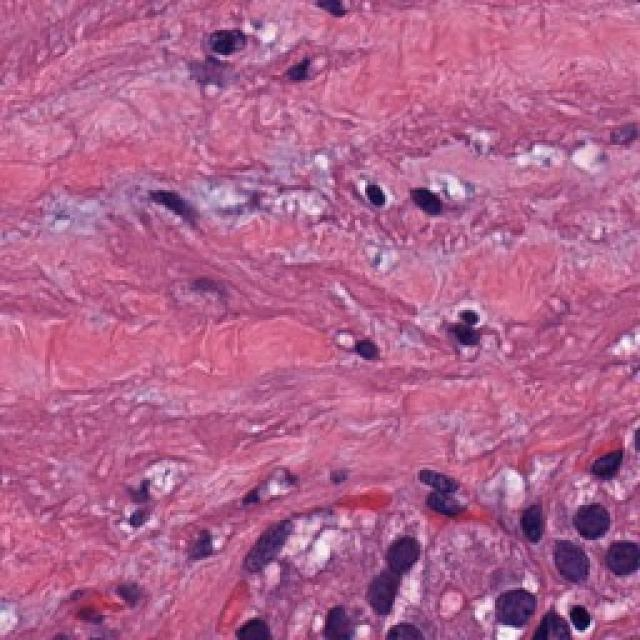normal: (483, 575, 547, 632), (362, 528, 426, 577), (510, 487, 558, 548), (570, 488, 610, 548), (357, 572, 407, 620)
